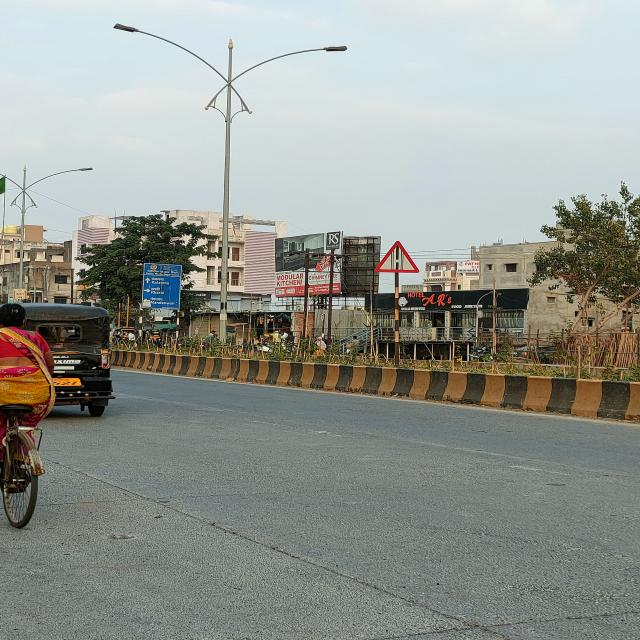ferry: (374, 240, 419, 272)
